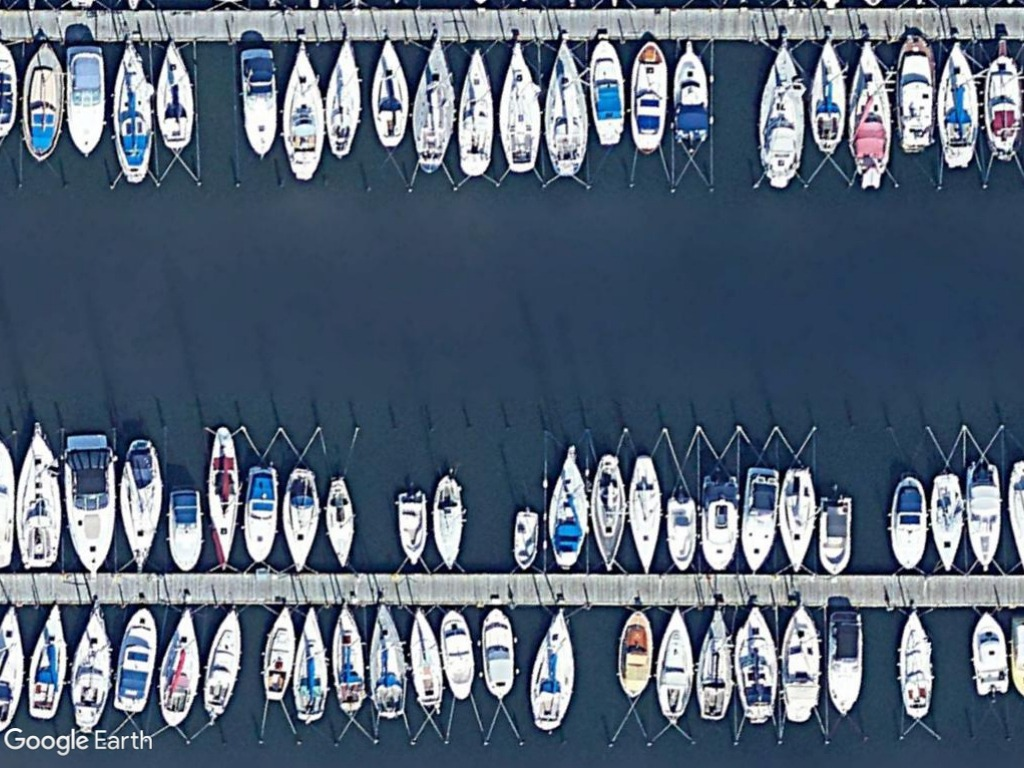boat: (57, 431, 120, 576), (750, 38, 807, 191), (10, 421, 64, 575), (540, 37, 592, 182), (107, 37, 157, 187), (524, 602, 580, 735), (490, 38, 544, 175), (276, 39, 326, 185), (844, 37, 892, 189), (404, 37, 456, 174), (115, 433, 165, 575), (15, 37, 69, 162), (933, 38, 982, 173), (888, 29, 939, 156), (201, 421, 243, 574), (543, 441, 592, 570), (67, 601, 115, 732), (454, 45, 500, 181), (153, 602, 202, 729), (730, 602, 779, 727), (105, 605, 159, 717), (775, 602, 824, 725), (801, 33, 849, 158), (818, 604, 868, 723), (148, 35, 197, 155), (24, 601, 72, 723), (318, 38, 365, 162), (234, 46, 283, 164), (60, 42, 109, 160), (651, 604, 697, 726), (586, 448, 629, 577), (622, 451, 666, 577), (623, 36, 669, 156), (959, 456, 1003, 578), (363, 602, 408, 721), (737, 462, 783, 578), (666, 37, 714, 148), (774, 462, 819, 580), (891, 606, 936, 723), (278, 464, 325, 576), (691, 604, 734, 726), (198, 603, 243, 719), (290, 602, 332, 726), (584, 37, 629, 151), (325, 602, 369, 718), (695, 469, 743, 573), (981, 51, 1024, 167), (884, 470, 930, 576), (367, 35, 409, 151), (963, 604, 1013, 700), (404, 602, 448, 709), (610, 602, 656, 703), (924, 467, 966, 576), (435, 604, 480, 705), (241, 461, 281, 570), (426, 470, 467, 573), (257, 602, 298, 703), (320, 474, 360, 574), (811, 490, 855, 579), (478, 604, 518, 699), (390, 487, 433, 573), (165, 486, 206, 574), (660, 487, 700, 575), (505, 503, 542, 573)
